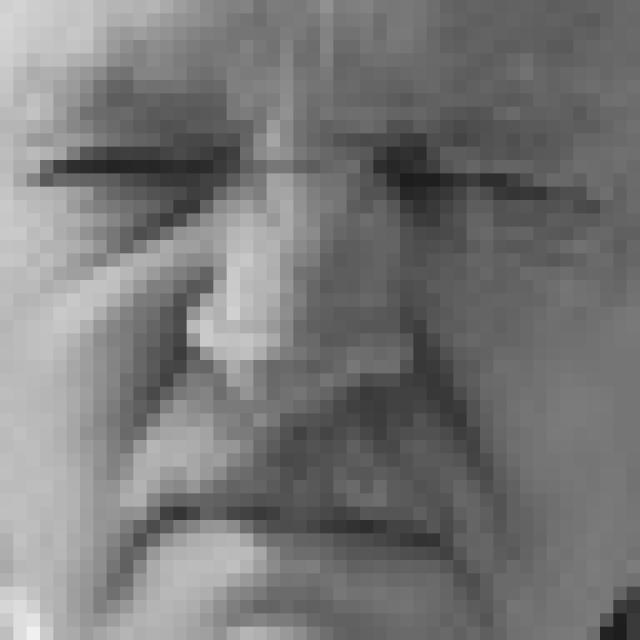disgust: (24, 101, 591, 612)
